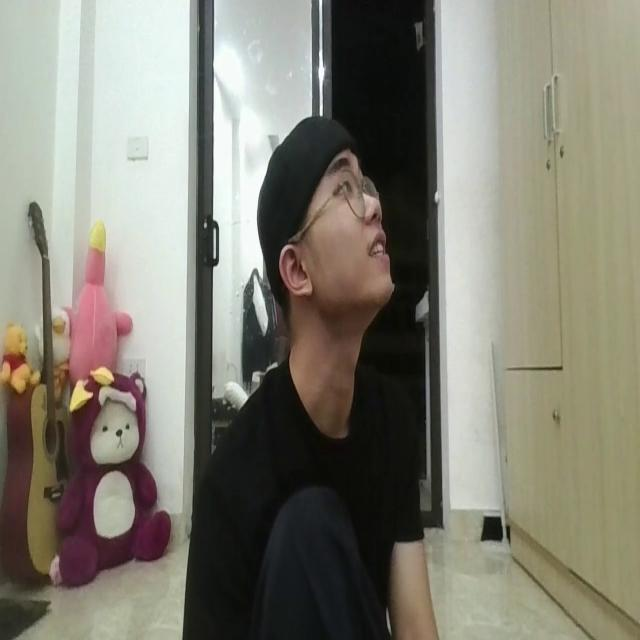student: (180, 103, 436, 640)
